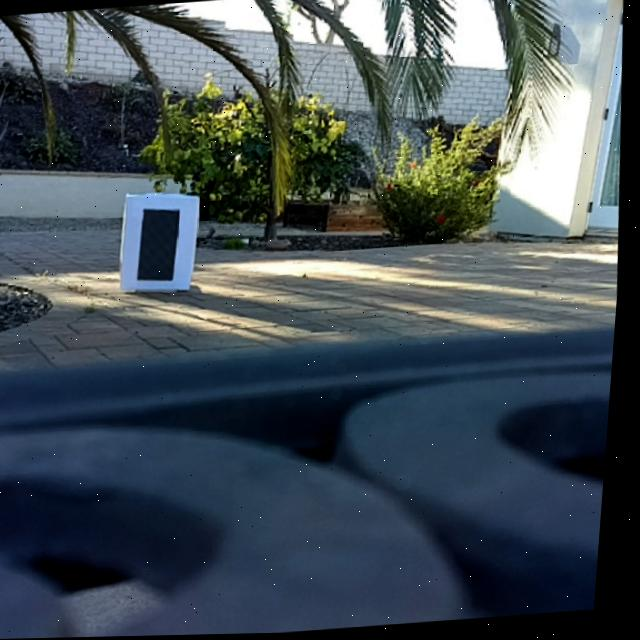led: (137, 204, 188, 286)
